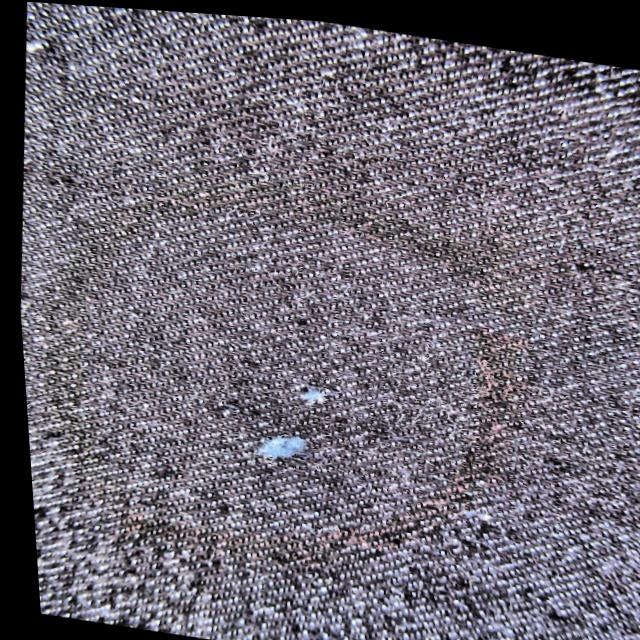Hole: (228, 409, 323, 471), (266, 351, 349, 416)
